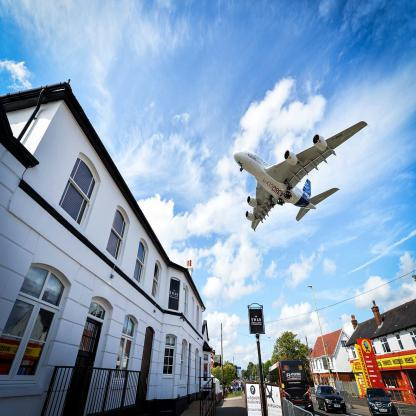CIV_Plane: (232, 117, 368, 233)
